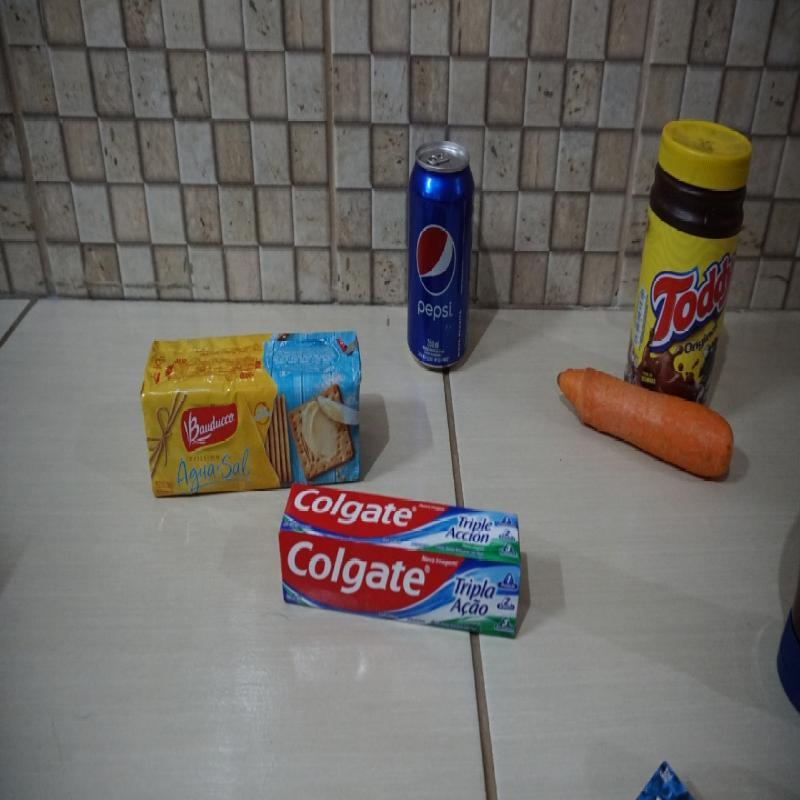Carrot: (555, 365, 734, 481)
Chocolate Powder: (632, 113, 752, 350)
Cracker: (140, 334, 366, 480)
Soda can: (408, 137, 474, 368)
Toothpaste: (282, 481, 530, 640)
